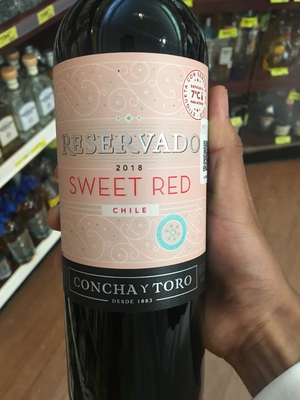reservado sweet red: (41, 23, 217, 392)
